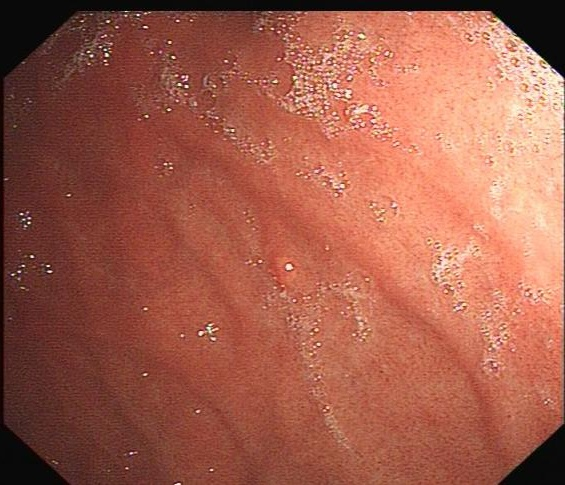Polyp: (243, 230, 311, 296)
